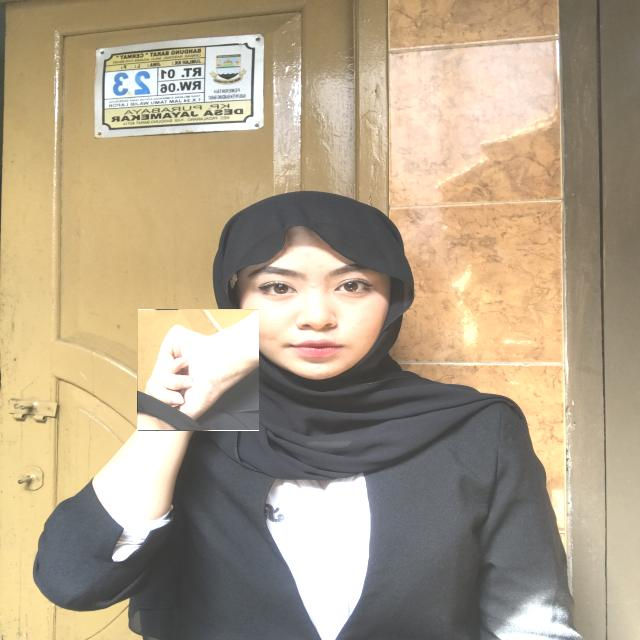ibu: (138, 309, 259, 431)
